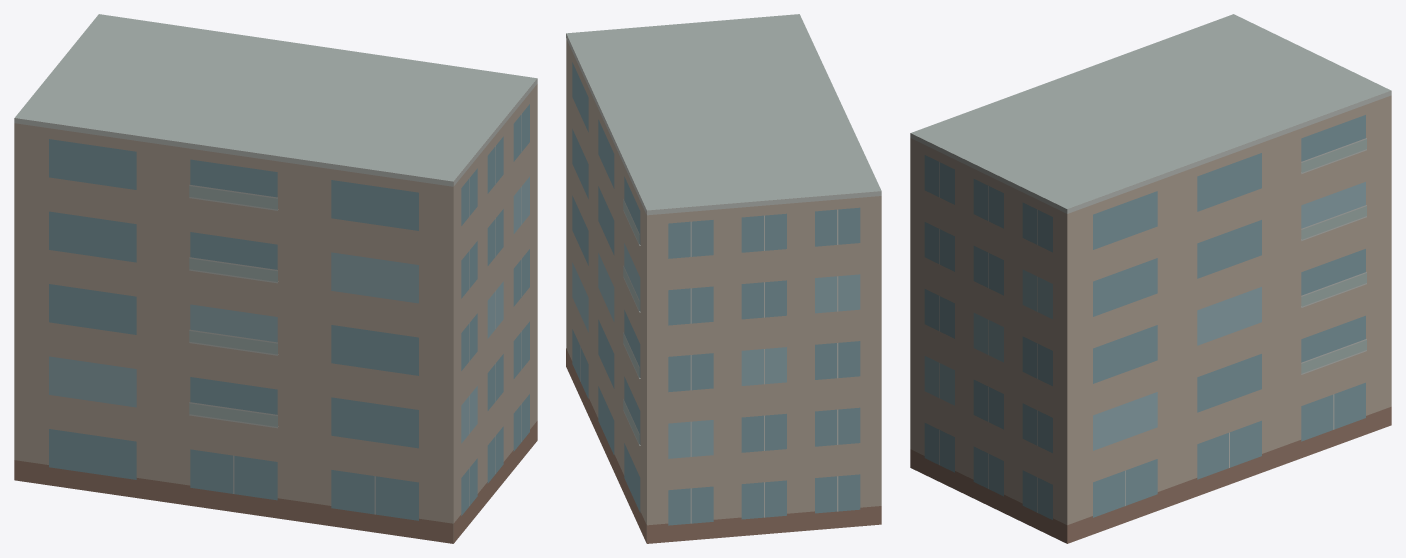
The model's file is survey-upis-32931668.glb.
3 views of the same model, side by side, from view 1: azimuth 30°, elevation 25°; view 2: azimuth 150°, elevation 25°; view 3: azimuth 270°, elevation 25° (orthographic). The views are drawn at different scales.
Visible parts, largest first — view 1: survey-upis-32931668.tmp; view 2: survey-upis-32931668.tmp; view 3: survey-upis-32931668.tmp.
Boxes of the visible parts, <box> form: survey-upis-32931668.tmp: <box>14,14,537,543</box>; survey-upis-32931668.tmp: <box>566,14,881,543</box>; survey-upis-32931668.tmp: <box>910,14,1391,543</box>.
Bounding box in the file's own units: 21.21 × 16.95 × 22.09.
